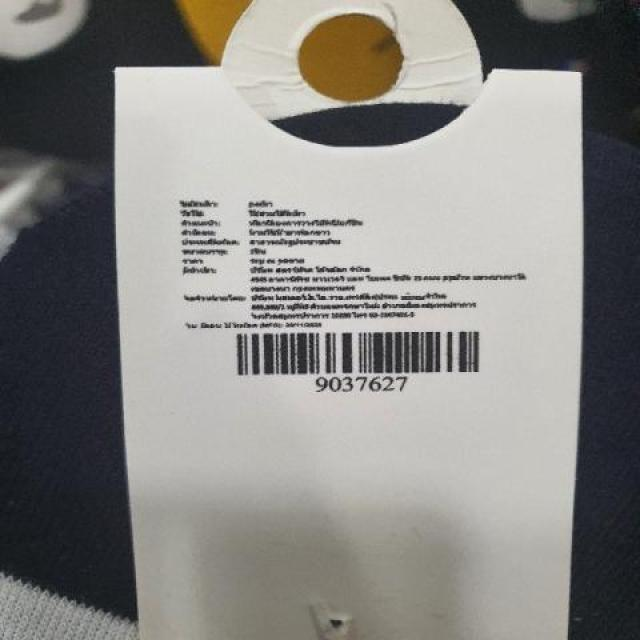Barcode: (223, 329, 497, 394)
